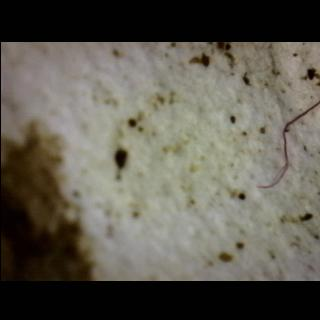Microplastic: (250, 79, 320, 193)
